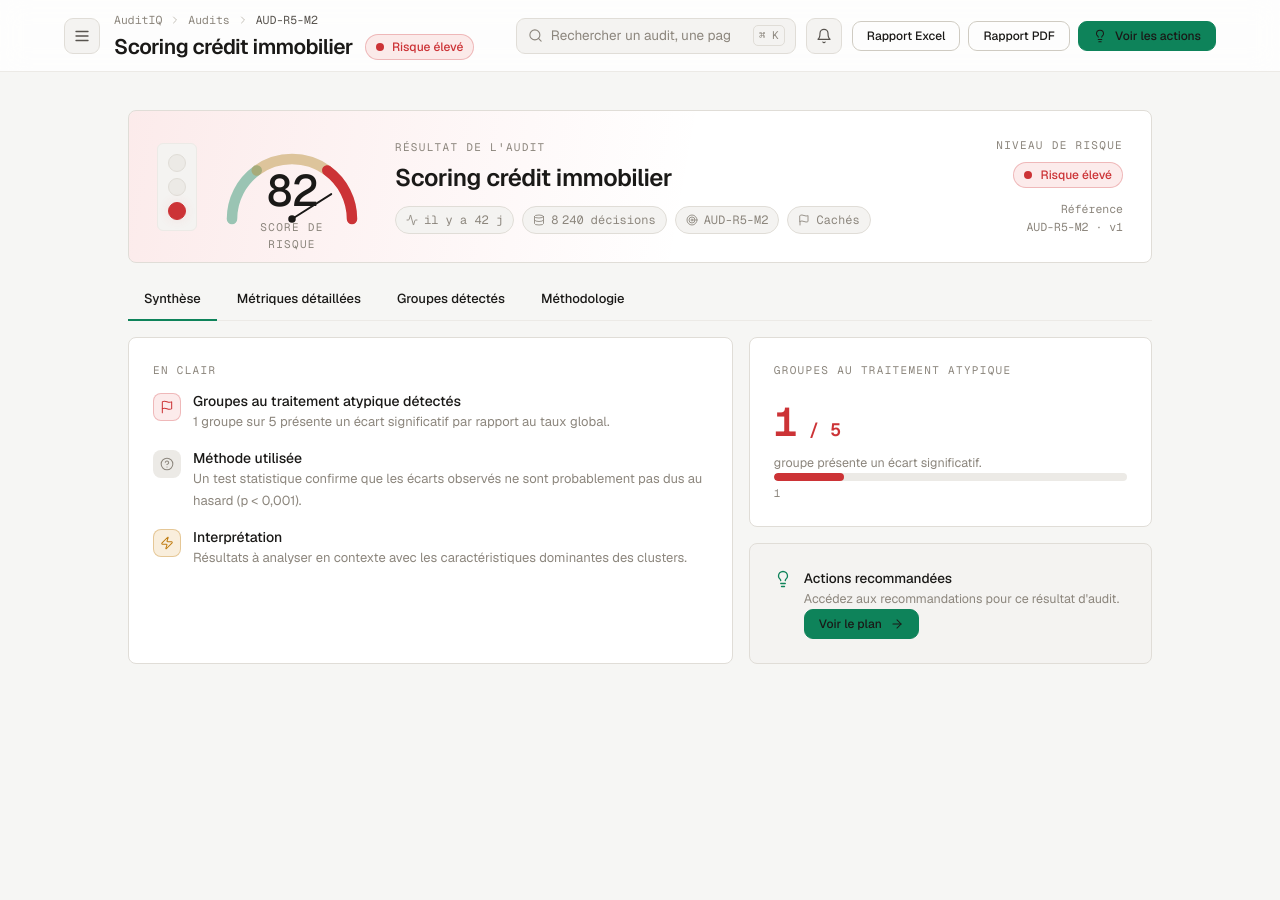
Test: R5 M2 — ClusterMap in Clusters tab › renders the Clusters tab and shows ClusterMap (role=img SVG)
Click the tab "Groupes détectés" at (451, 300), box [381,279,521,321]
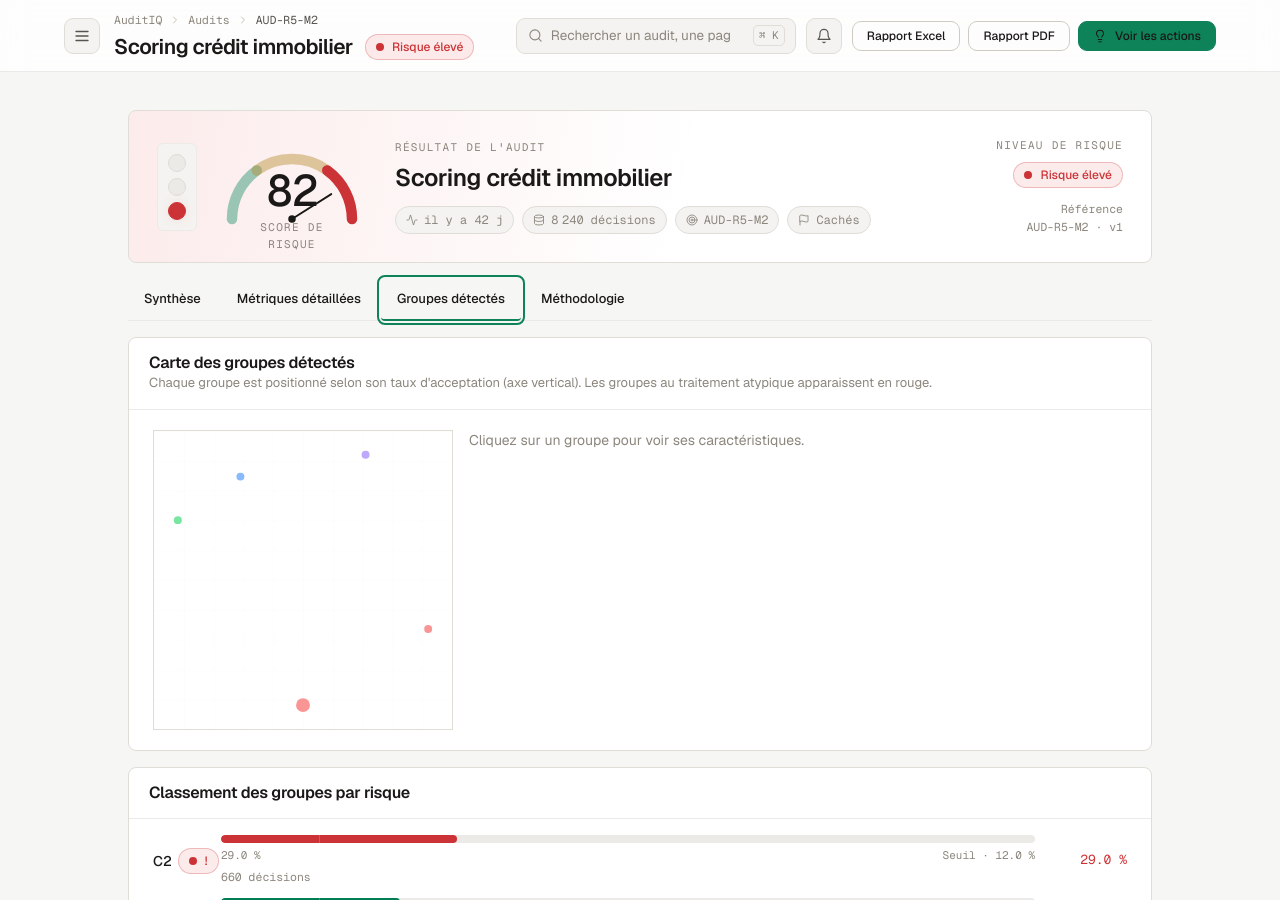
Expected: the picture named "carte de clusters" is shown, [153,430,453,730]
